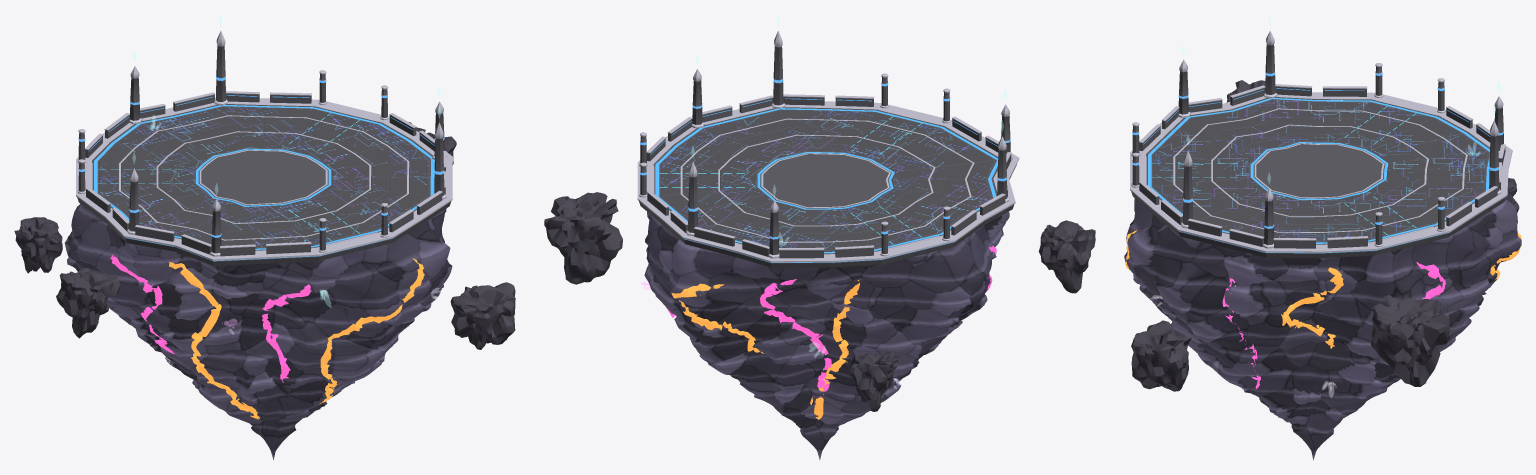
File: Island_Central_web.glb
3 views of the same model, side by side, from view 1: azimuth 30°, elevation 25°; view 2: azimuth 150°, elevation 25°; view 3: azimuth 270°, elevation 25° (orthographic).
Visible parts, largest first — view 1: Island_Central_Deck, Island_Central_Rock, Island_Central_Architecture, Island_Central, Island_Central_Veins; view 2: Island_Central_Deck, Island_Central_Rock, Island_Central_Architecture, Island_Central, Island_Central_Veins; view 3: Island_Central_Deck, Island_Central_Rock, Island_Central_Architecture, Island_Central, Island_Central_Veins.
Part boxes in pixels (x1,y1,x2,y2): Island_Central_Deck: (76, 97, 452, 265); Island_Central_Rock: (64, 170, 452, 460); Island_Central_Architecture: (77, 16, 446, 256); Island_Central: (14, 115, 515, 365); Island_Central_Veins: (110, 254, 424, 419); Island_Central_Deck: (637, 101, 1019, 267); Island_Central_Rock: (644, 152, 1009, 460); Island_Central_Architecture: (639, 15, 1012, 258); Island_Central: (544, 192, 1095, 411); Island_Central_Veins: (665, 245, 996, 419); Island_Central_Deck: (1130, 92, 1512, 257); Island_Central_Rock: (1124, 110, 1521, 460); Island_Central_Architecture: (1131, 15, 1506, 248); Island_Central: (1131, 80, 1519, 397); Island_Central_Veins: (1125, 230, 1521, 389).
Bounding box in the file's own units: 50.54 × 38.87 × 36.96.
Materials: 12 (1 with a texture image).
